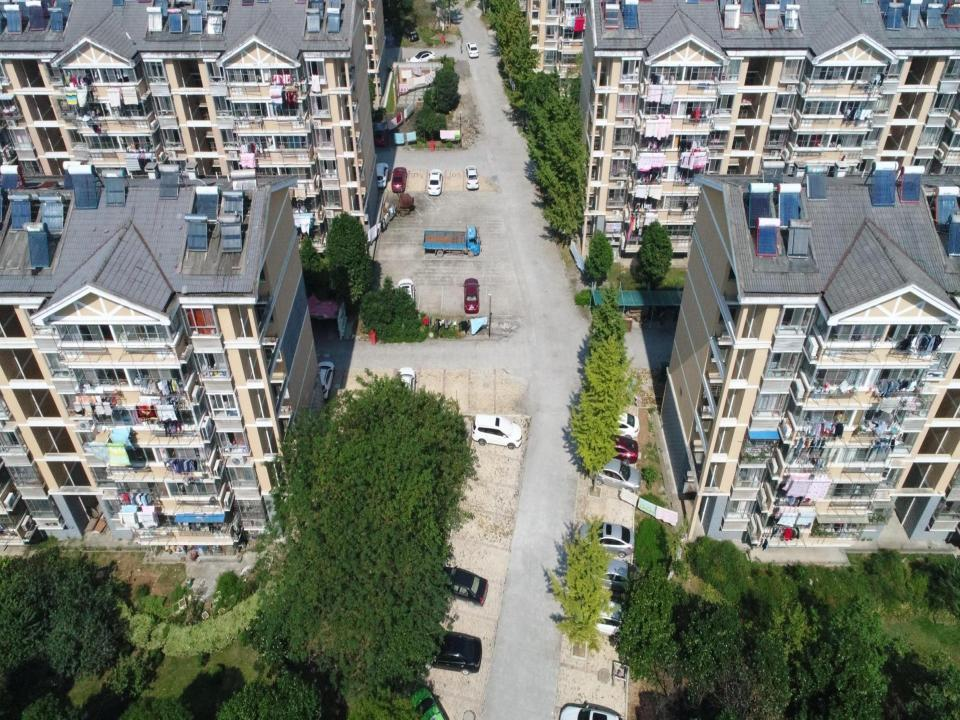car: (418, 630, 482, 674), (574, 600, 646, 637), (436, 566, 489, 608), (585, 557, 646, 593), (577, 522, 635, 558), (587, 458, 641, 493), (472, 413, 522, 449), (590, 435, 638, 466), (591, 412, 639, 440), (407, 688, 446, 719), (395, 368, 416, 412), (316, 361, 334, 402), (398, 278, 416, 316), (462, 278, 480, 314), (524, 102, 541, 134), (427, 168, 443, 196), (391, 166, 407, 193), (409, 50, 435, 66), (374, 162, 388, 189), (465, 166, 478, 190), (374, 122, 386, 146), (400, 27, 419, 41), (466, 41, 479, 58)
truck: (422, 227, 482, 257)
